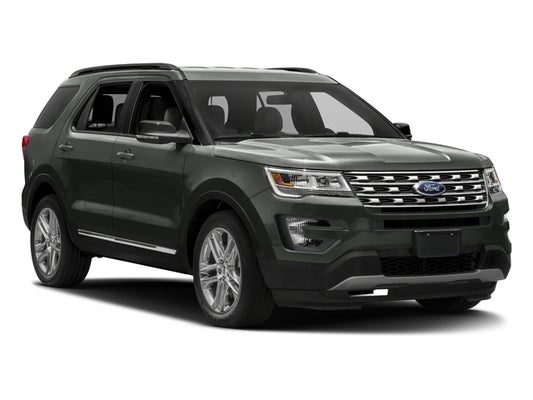Ford Explorer: (23, 64, 512, 328)
